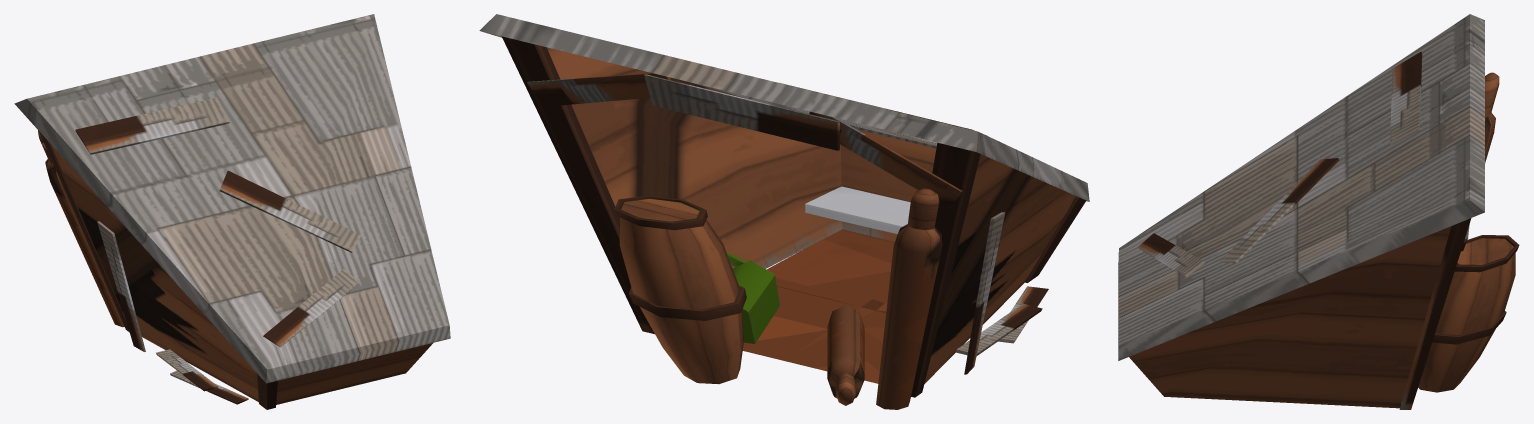
File: workshed_lvl3.FBX
3 views of the same model, side by side, from view 1: azimuth 30°, elevation 25°; view 2: azimuth 150°, elevation 25°; view 3: azimuth 270°, elevation 25° (orthographic). The views are drawn at different scales.
Visible parts, largest first — view 1: HD_Build_House_Workshed_LVL004; view 2: HD_Build_House_Workshed_LVL004; view 3: HD_Build_House_Workshed_LVL004.
Part boxes in pixels (x1,y1,x2,y2): HD_Build_House_Workshed_LVL004: (14, 14, 450, 409); HD_Build_House_Workshed_LVL004: (479, 14, 1089, 409); HD_Build_House_Workshed_LVL004: (1118, 14, 1519, 409).
Size of the model in its own units: 209 by 131 by 185.
1 material, 1 textured.
